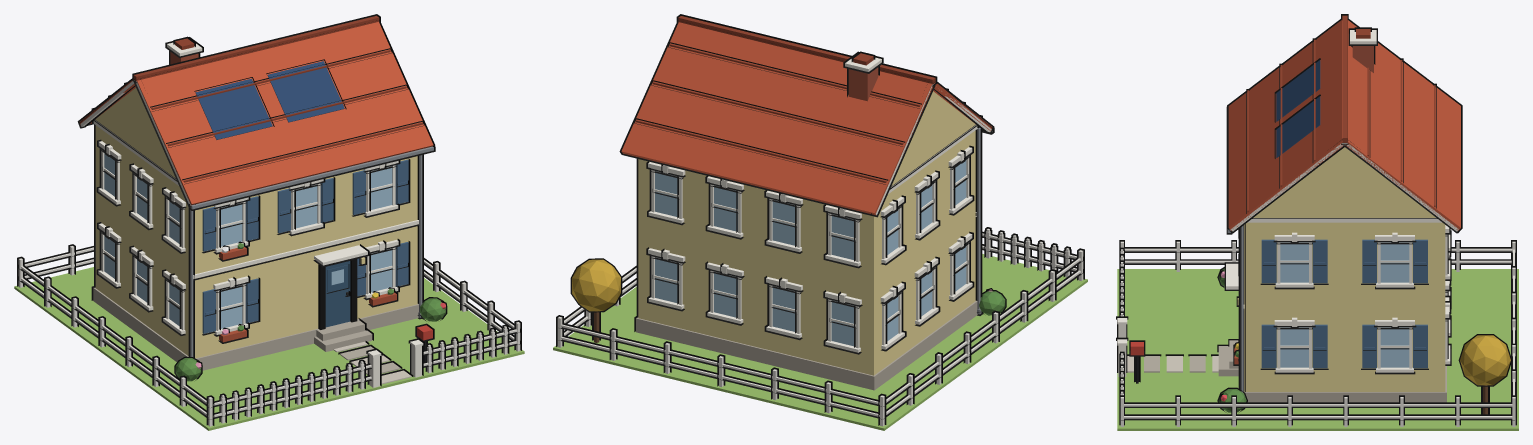
File: MustakilEv_avrupa_1_3.fbx
3 renders of one model, left to right at view 1: azimuth 30°, elevation 25°; view 2: azimuth 150°, elevation 25°; view 3: azimuth 270°, elevation 25°, orthographic. The views are drawn at different scales.
Parts seen in each view (by area): view 1: MustakilEv_avrupa_1_3; view 2: MustakilEv_avrupa_1_3; view 3: MustakilEv_avrupa_1_3.
Boxes of the visible parts, x1=… form: MustakilEv_avrupa_1_3: x1=14, y1=14, x2=524, y2=430; MustakilEv_avrupa_1_3: x1=553, y1=14, x2=1087, y2=430; MustakilEv_avrupa_1_3: x1=1116, y1=14, x2=1518, y2=430.
Bounding box in the file's own units: 11.26 × 9.5 × 12.03.
